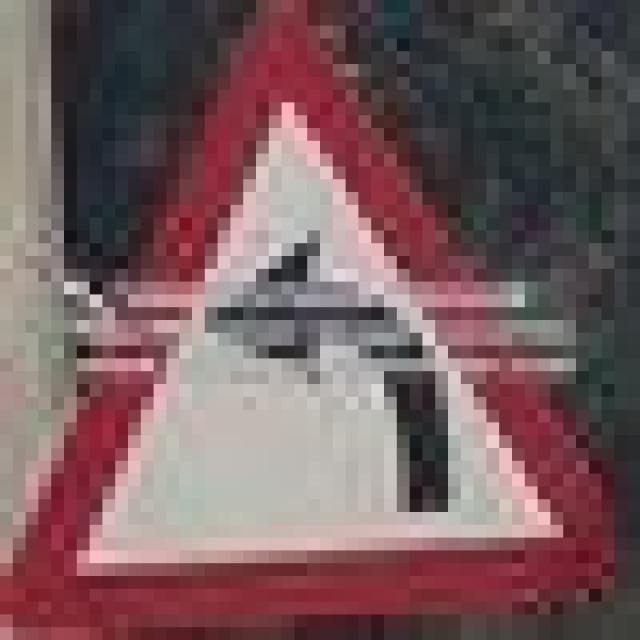LEFT_HAND_CURVE: (0, 0, 627, 614)
